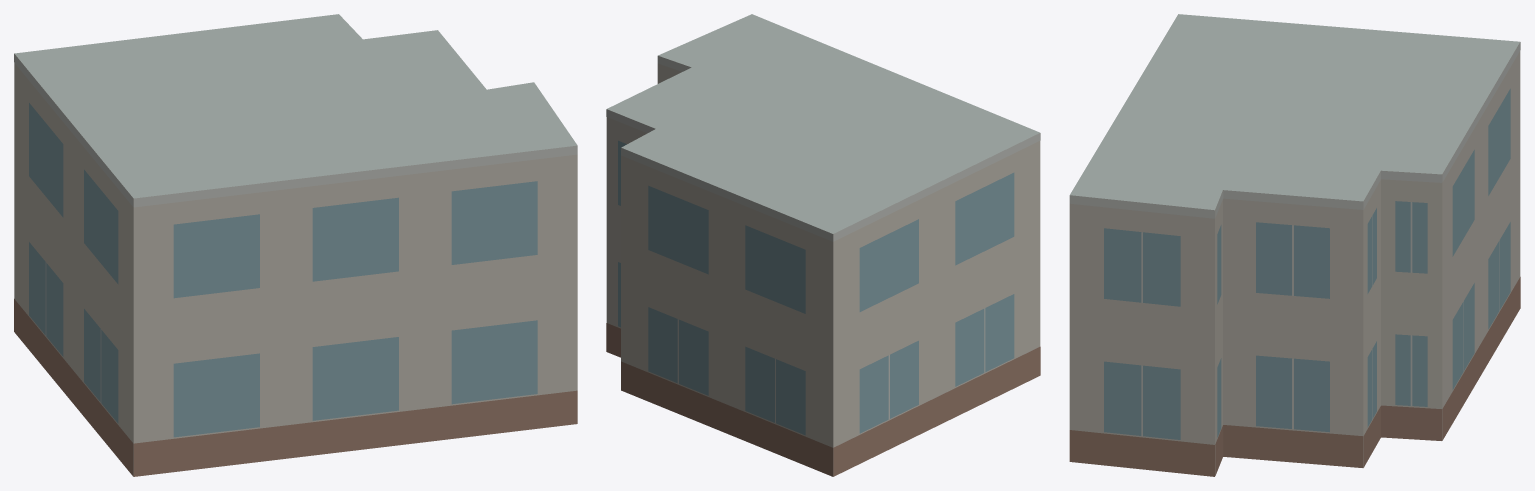
The model's file is survey-upis-32546401.glb.
3 views of the same model, side by side, from view 1: azimuth 30°, elevation 25°; view 2: azimuth 150°, elevation 25°; view 3: azimuth 270°, elevation 25° (orthographic). The views are drawn at different scales.
Parts seen in each view (by area): view 1: survey-upis-32546401.tmp; view 2: survey-upis-32546401.tmp; view 3: survey-upis-32546401.tmp.
Part boxes in pixels (bbox=[...]): survey-upis-32546401.tmp: bbox=[14, 14, 577, 476]; survey-upis-32546401.tmp: bbox=[606, 14, 1040, 476]; survey-upis-32546401.tmp: bbox=[1069, 14, 1520, 476].
Size of the model in its own units: 12 by 7.6 by 11.65.
